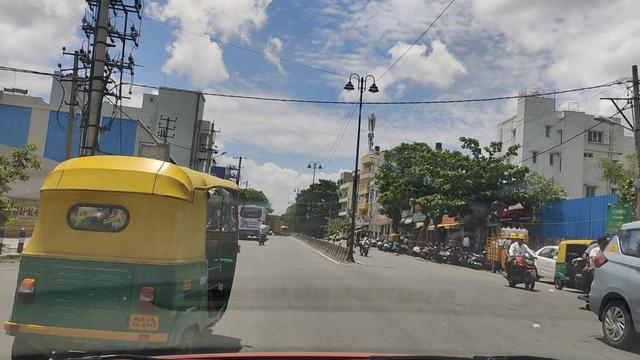LMV: (23, 159, 242, 360)
